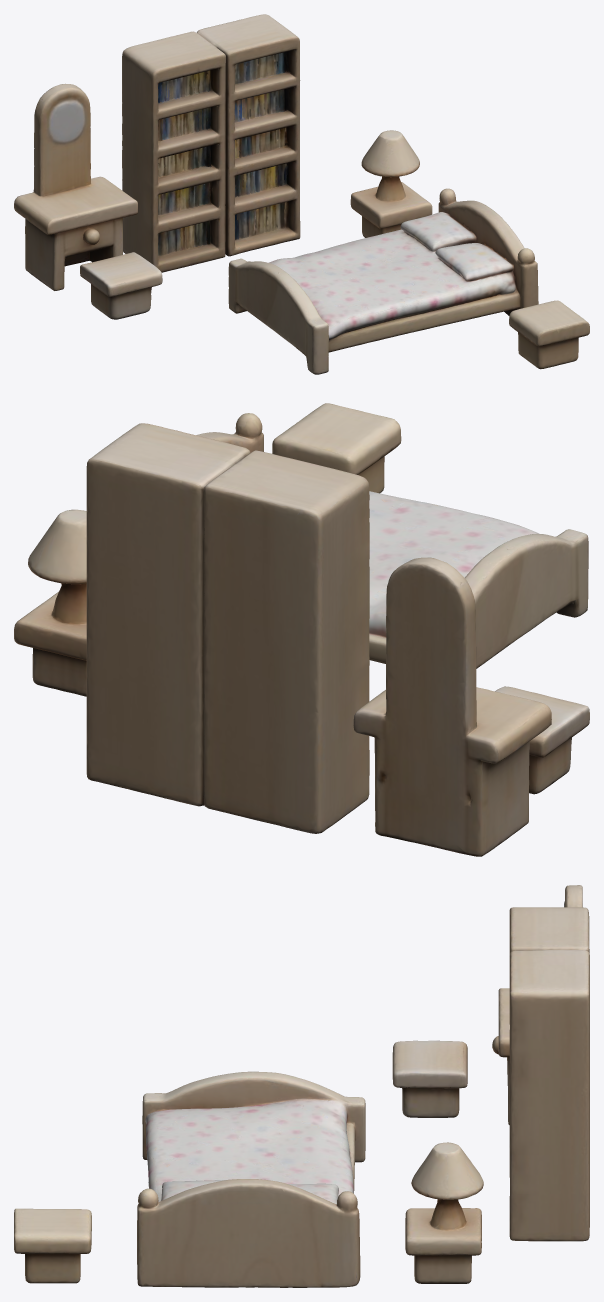
File: bedroom.glb
3 renders of one model, top to bottom at view 1: azimuth 30°, elevation 25°; view 2: azimuth 150°, elevation 25°; view 3: azimuth 270°, elevation 25°, orthographic. The views are drawn at different scales.
Parts seen in each view (by area): view 1: geometry_0; view 2: geometry_0; view 3: geometry_0.
Boxes of the visible parts, x1,y1,x2,y2 form: geometry_0: [14, 14, 589, 374]; geometry_0: [14, 403, 589, 856]; geometry_0: [14, 885, 589, 1287].
Bounding box in the file's own units: 0.8568 × 0.481 × 1.
1 material, 1 textured.
